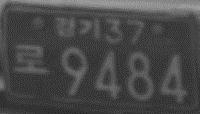3: (104, 17, 124, 45)
4: (93, 50, 121, 99), (159, 54, 187, 103)
7: (126, 18, 145, 45)
8: (125, 51, 155, 102)
9: (60, 46, 88, 97)
경기_O: (54, 15, 100, 39)
로: (12, 42, 50, 76)
